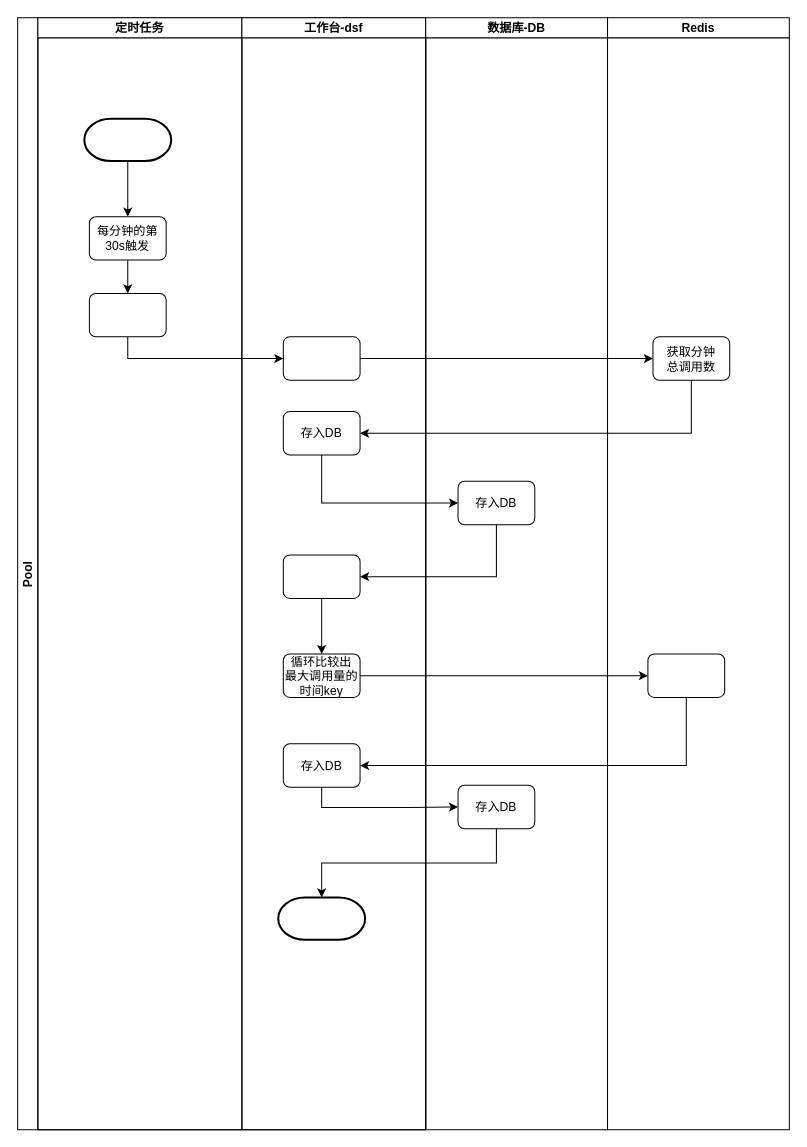
Image size: 807x1147. Some labels were removed from this diagram. Each missing label, with the centre of its shape:
"开始" goes at [127,139].
"组合 上分钟 的时间key" goes at [321,358].
"结束" goes at [321,918].
"获取上分钟 每秒调用量" goes at [321,576].
"获取秒级 调用数" goes at [686,675].
"调用工作台dsf接口" goes at [127,314].
